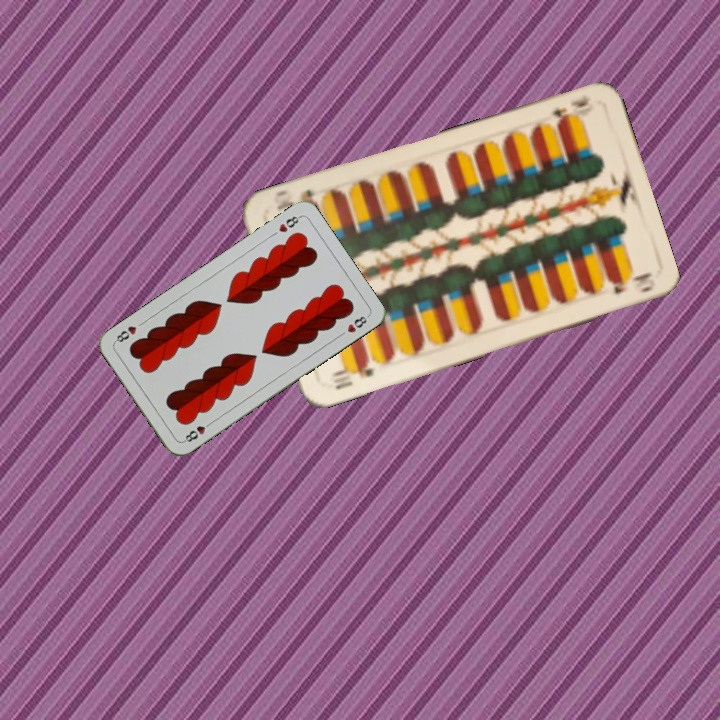E10: (328, 357, 377, 393), (548, 91, 593, 129)
H8: (179, 417, 215, 445), (275, 212, 303, 235)
